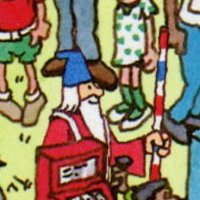wb: (56, 50, 103, 110)
